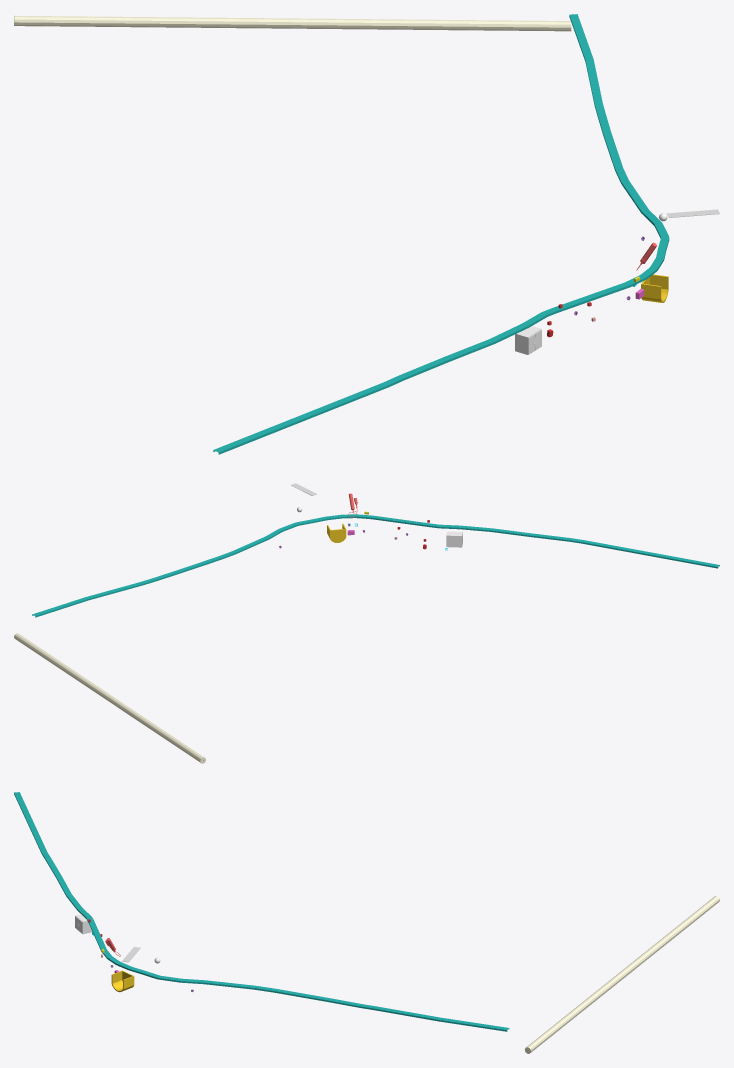
Rendered from tile_58.glb.
3 renders of one model, top to bottom at view 1: azimuth 30°, elevation 25°; view 2: azimuth 150°, elevation 25°; view 3: azimuth 270°, elevation 25°, orthographic. The views are drawn at different scales.
Size of the model in its own units: 20.12 by 1.91 by 24.28.
